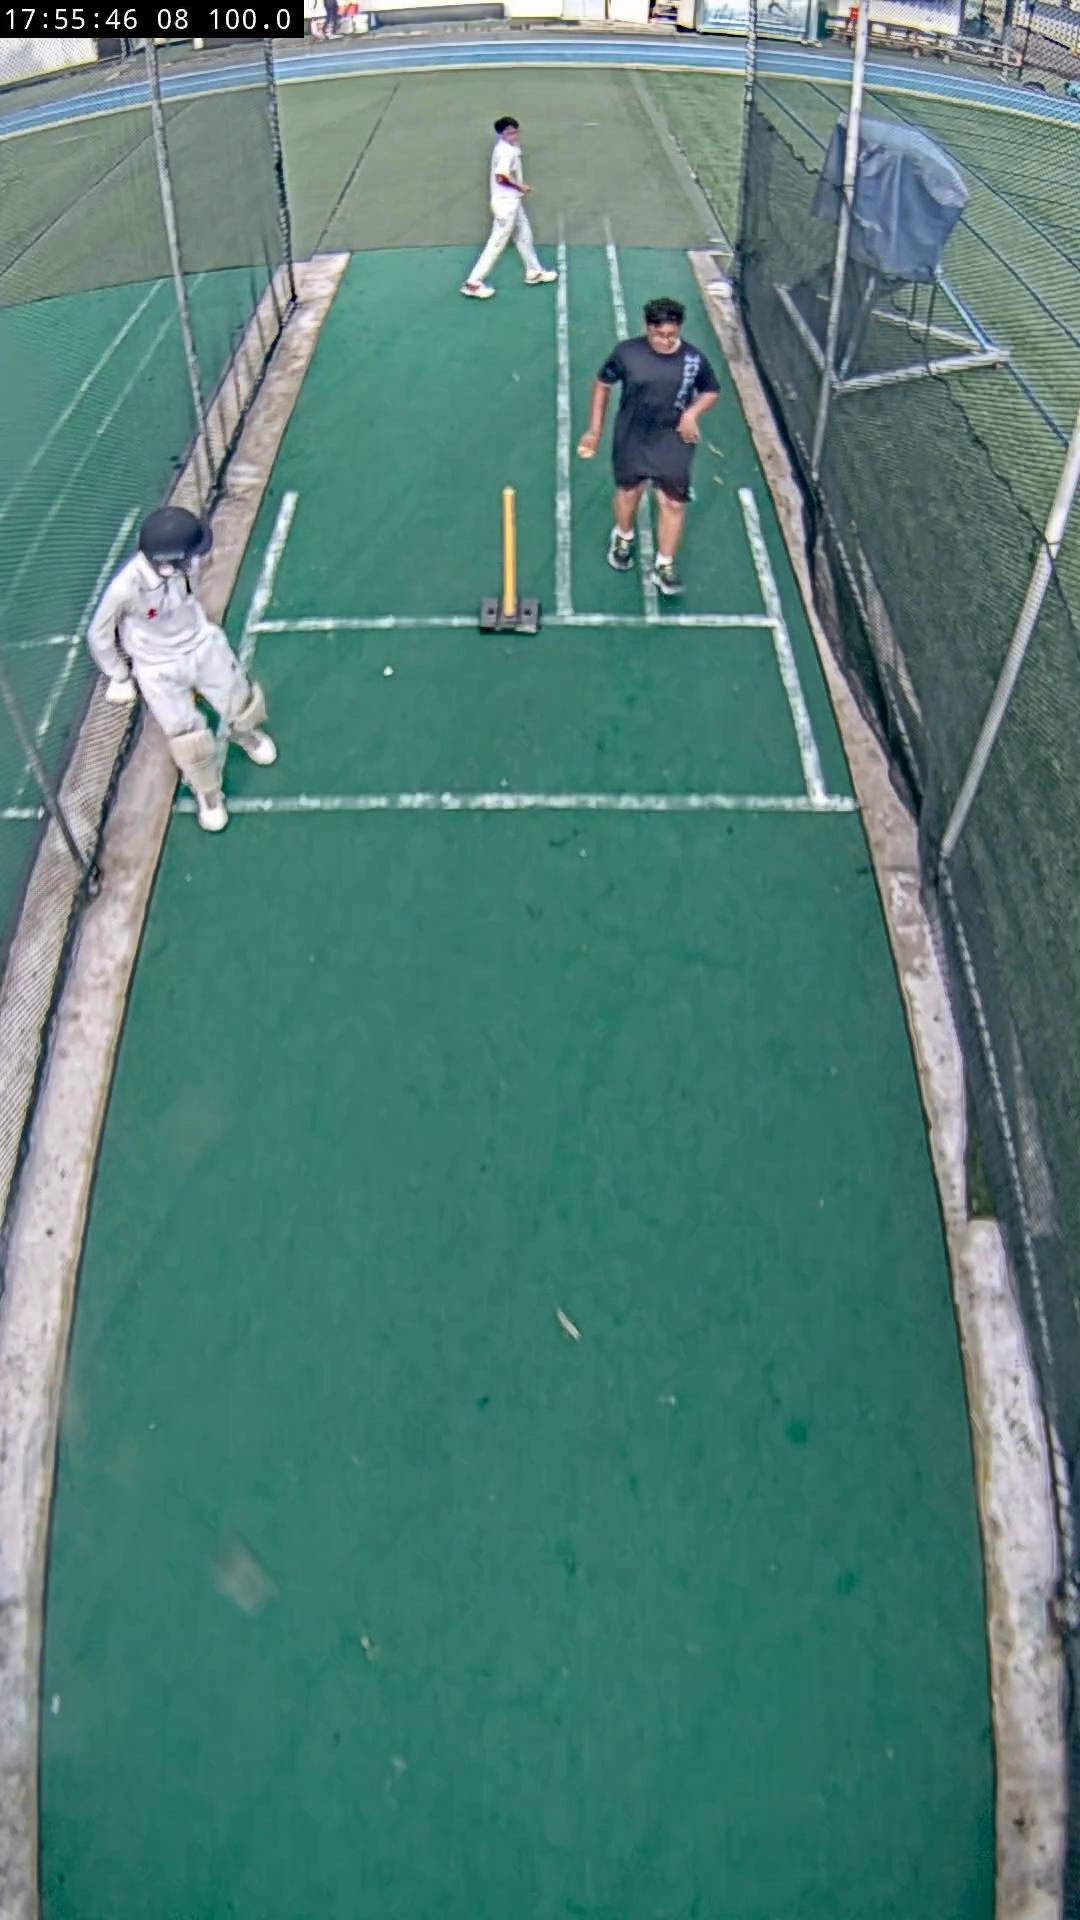ball: (578, 446, 592, 458)
stumps: (480, 488, 541, 634)
